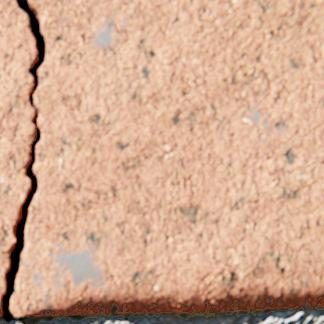broken_brick: (10, 0, 323, 317), (0, 0, 36, 303)
crack: (0, 0, 46, 321)
